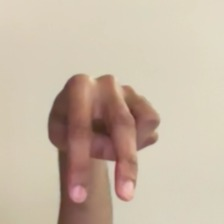N: (38, 64, 173, 219)
